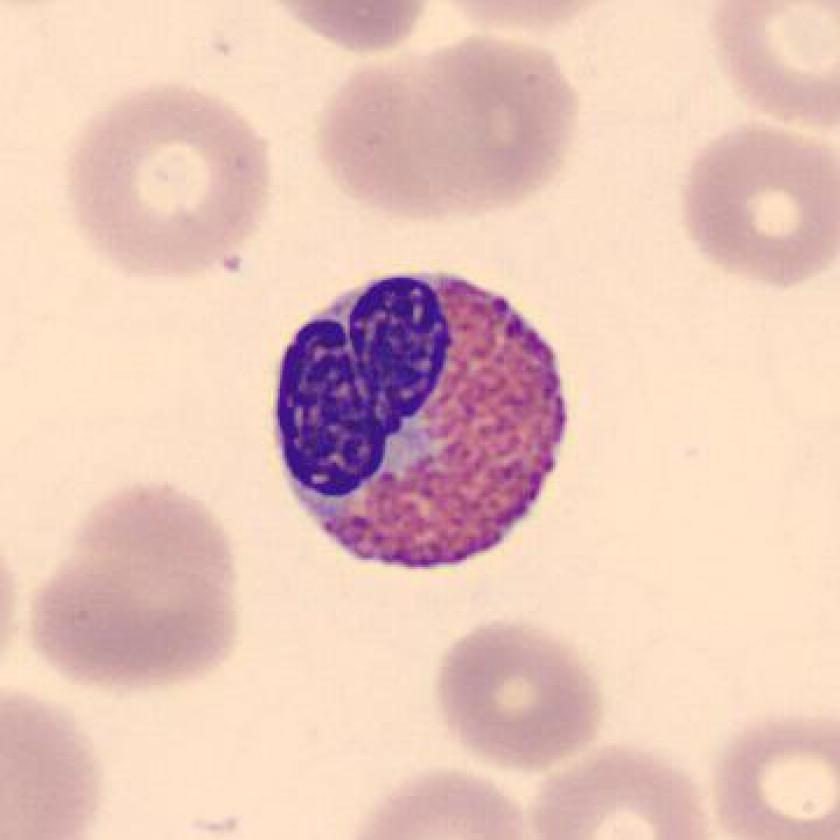eosinophil: (262, 263, 580, 584)
